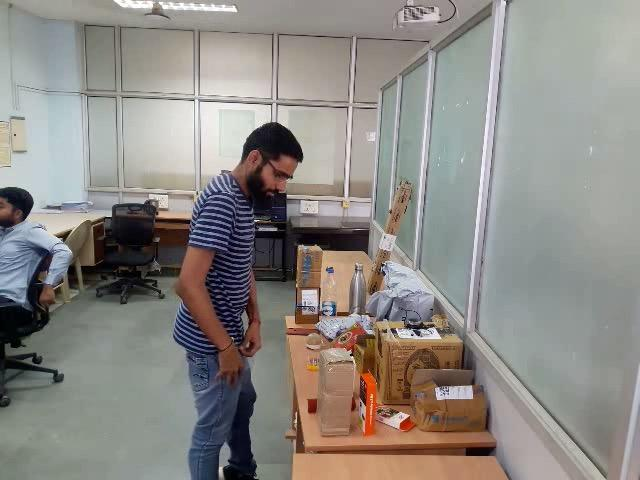shoplifting: (168, 283, 286, 401)
